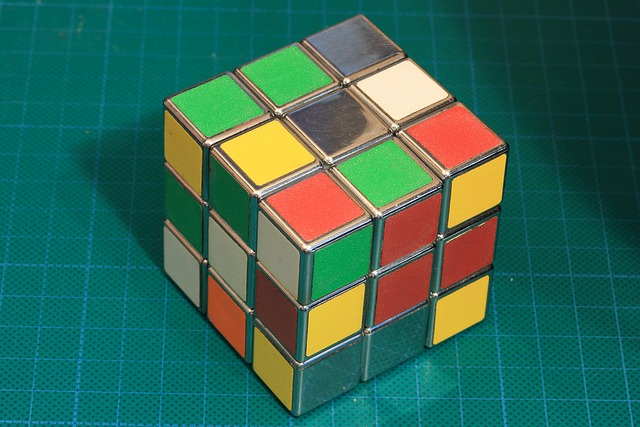cube: (161, 14, 510, 418)
